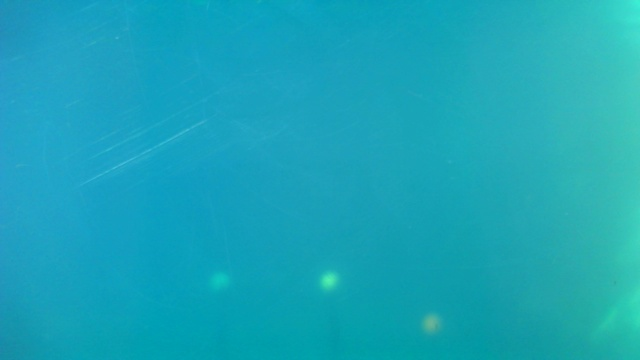buoy_red: (422, 313, 439, 335)
